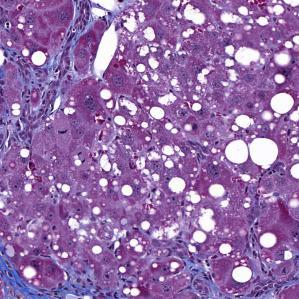fibrosis: (182, 258, 299, 299), (0, 250, 97, 299), (30, 33, 81, 115)
